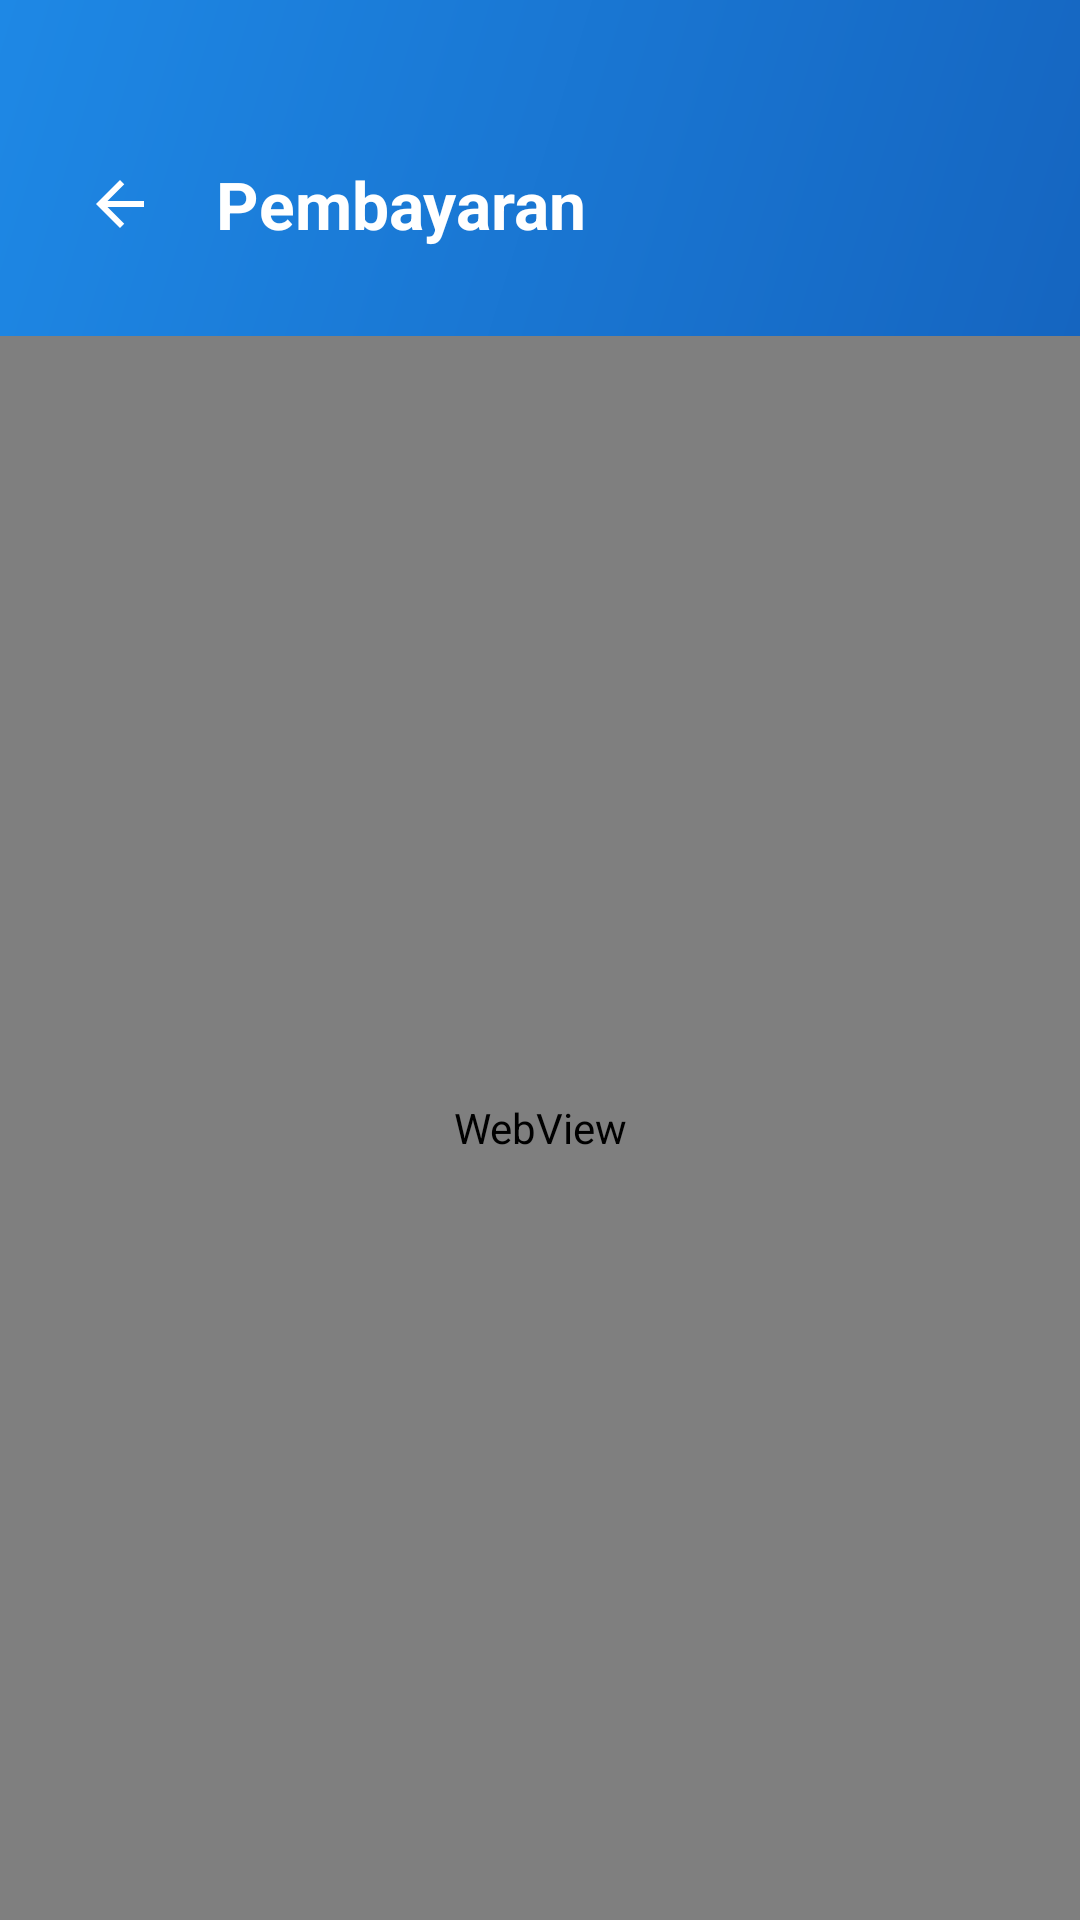

Named icons in this screenshot (1080px x 1920px) and their bounding boxes, (x1, y1, x2, y2):
Back: (96, 180, 144, 228)
